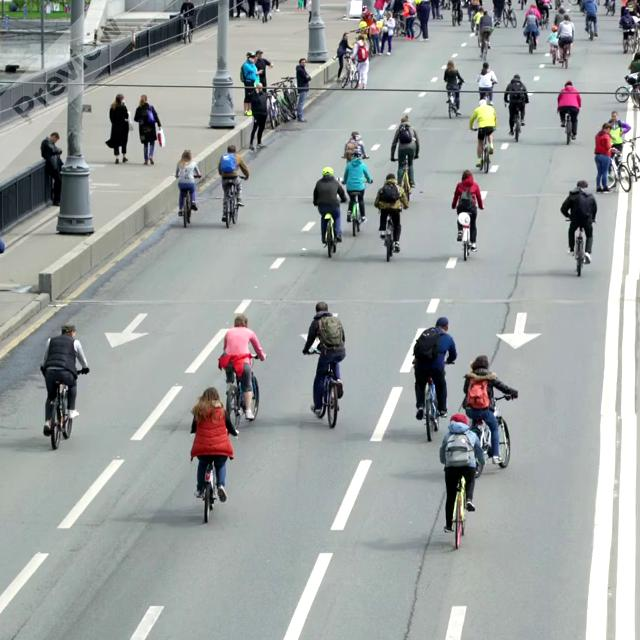bicycle: (188, 430, 235, 522), (469, 393, 516, 477), (42, 366, 88, 450), (409, 360, 451, 441), (303, 349, 343, 428), (222, 354, 262, 433), (339, 176, 373, 235), (563, 217, 594, 276), (443, 474, 467, 549), (220, 175, 245, 228), (391, 155, 416, 206), (455, 207, 477, 261), (177, 176, 200, 227), (606, 147, 631, 192), (379, 209, 400, 262), (473, 126, 495, 173), (504, 101, 525, 142), (263, 87, 282, 129), (615, 73, 639, 106), (321, 213, 337, 258), (340, 53, 360, 89), (559, 109, 578, 145), (445, 80, 463, 118), (625, 136, 639, 181), (177, 13, 194, 43), (485, 82, 496, 105)
